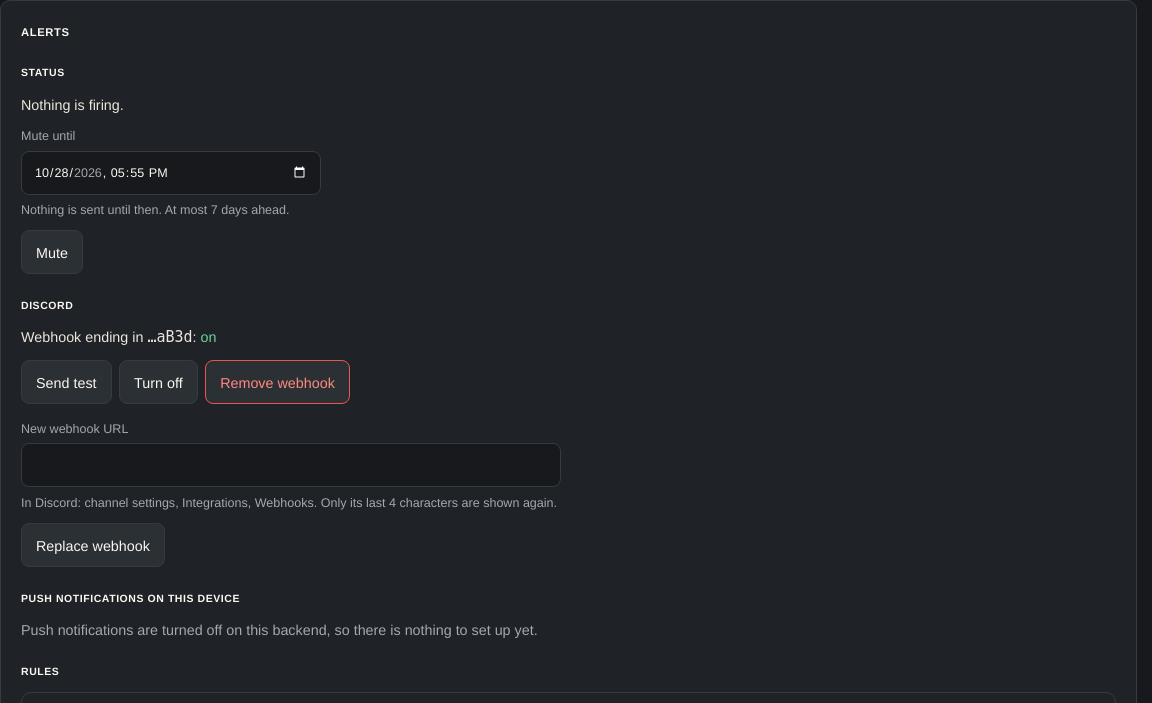
Scenario: the mute › shows the backend's mute_invalid message
Click the button "Mute" at (52, 252), box [21,230,83,274]
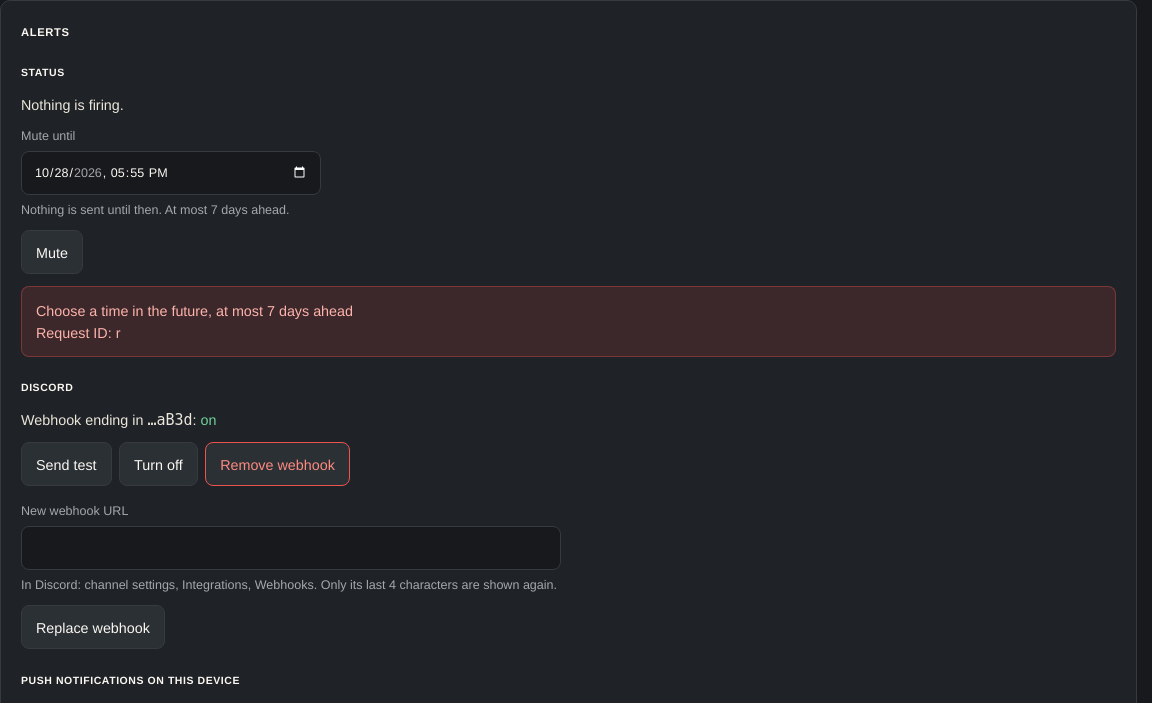
Expected: the text "Choose a time in the future, at most 7 days ahead" is shown, [36,300,353,318]
